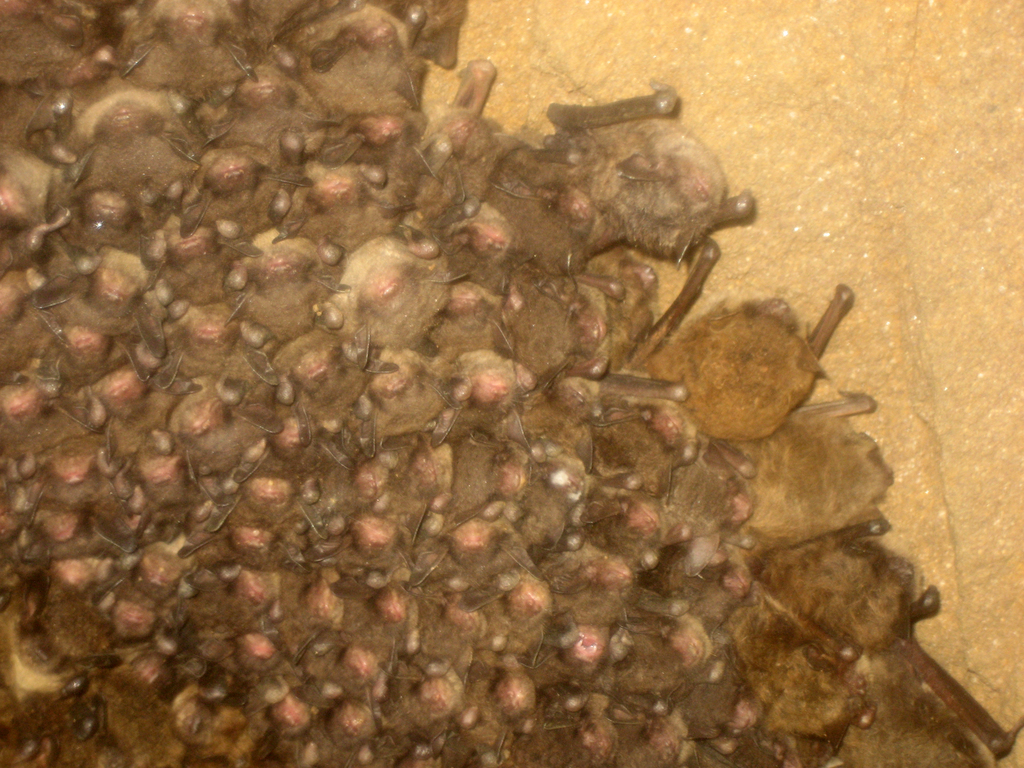Animal: (0, 0, 1022, 766)
